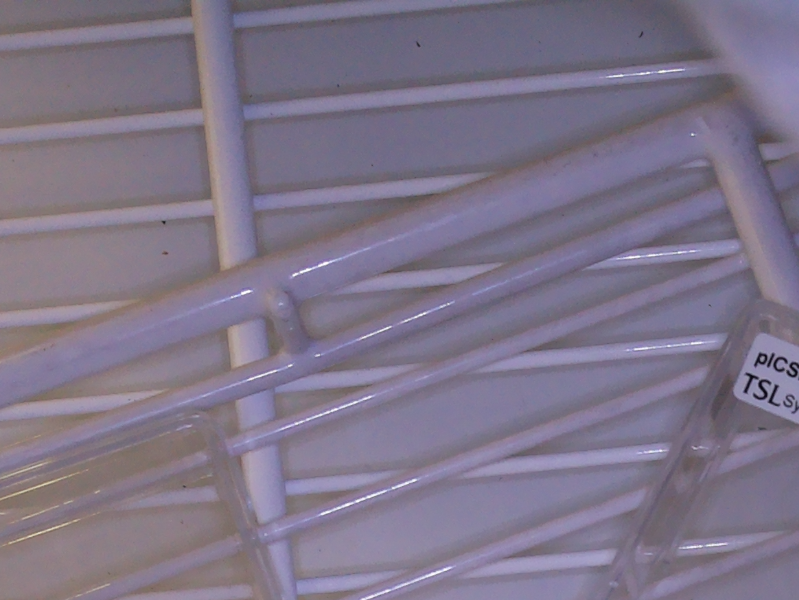plate: (597, 296, 799, 600), (1, 405, 287, 600)
